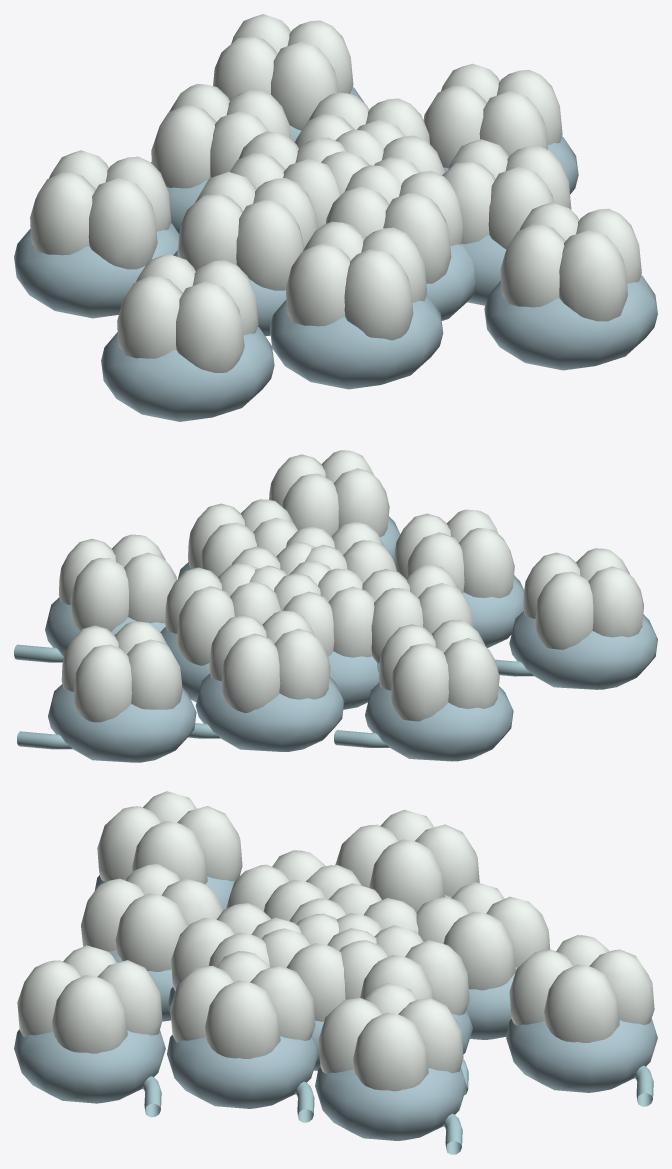
Rendered from bio_oxygen_reef_16_far.glb.
The picture shows the model from 3 angles, top to bottom: view 1: azimuth 30°, elevation 25°; view 2: azimuth 150°, elevation 25°; view 3: azimuth 270°, elevation 25°; orthographic projection. The views are drawn at different scales.
Parts seen in each view (by area): view 1: Lobed gas sac.028, Lobed gas sac.040, Lobed gas sac.036, Lobed gas sac.048, Lobed gas sac.016, Lobed gas sac.044, Lobed gas sac.032, Photosynthetic cushion.012, Photosynthetic cushion.007, Photosynthetic cushion.010, Lobed gas sac.024, Lobed gas sac.020 (+10 smaller); view 2: Lobed gas sac.048, Lobed gas sac.024, Lobed gas sac.036, Lobed gas sac.044, Lobed gas sac.032, Lobed gas sac.040, Lobed gas sac.028, Photosynthetic cushion.011, Photosynthetic cushion.012, Photosynthetic cushion.009, Lobed gas sac.012, Photosynthetic cushion.006 (+13 smaller); view 3: Lobed gas sac.040, Lobed gas sac.020, Lobed gas sac.044, Lobed gas sac.032, Lobed gas sac.048, Lobed gas sac.028, Lobed gas sac.036, Lobed gas sac.024, Photosynthetic cushion.008, Photosynthetic cushion.011, Photosynthetic cushion.010, Photosynthetic cushion.005 (+12 smaller).
Part boxes in pixels (x1=…): Lobed gas sac.028: x1=285, y1=221, x2=426, y2=340; Lobed gas sac.040: x1=500, y1=202, x2=641, y2=321; Lobed gas sac.036: x1=30, y1=150, x2=171, y2=269; Lobed gas sac.048: x1=117, y1=254, x2=258, y2=372; Lobed gas sac.016: x1=177, y1=172, x2=317, y2=290; Lobed gas sac.044: x1=213, y1=14, x2=353, y2=130; Lobed gas sac.032: x1=423, y1=63, x2=562, y2=167; Photosynthetic cushion.012: x1=101, y1=327, x2=274, y2=421; Photosynthetic cushion.007: x1=269, y1=294, x2=443, y2=389; Photosynthetic cushion.010: x1=484, y1=275, x2=657, y2=370; Lobed gas sac.024: x1=151, y1=84, x2=291, y2=188; Lobed gas sac.020: x1=442, y1=139, x2=571, y2=249; Lobed gas sac.048: x1=523, y1=548, x2=643, y2=649; Lobed gas sac.024: x1=209, y1=610, x2=330, y2=713; Lobed gas sac.036: x1=378, y1=620, x2=499, y2=721; Lobed gas sac.044: x1=61, y1=621, x2=182, y2=722; Lobed gas sac.032: x1=58, y1=534, x2=176, y2=631; Lobed gas sac.040: x1=269, y1=450, x2=389, y2=537; Lobed gas sac.028: x1=394, y1=509, x2=514, y2=598; Photosynthetic cushion.011: x1=48, y1=684, x2=196, y2=762; Photosynthetic cushion.012: x1=509, y1=611, x2=657, y2=689; Photosynthetic cushion.009: x1=365, y1=683, x2=513, y2=761; Lobed gas sac.012: x1=165, y1=563, x2=280, y2=665; Photosynthetic cushion.006: x1=195, y1=673, x2=344, y2=751; Lobed gas sac.040: x1=17, y1=945, x2=162, y2=1053; Lobed gas sac.020: x1=170, y1=951, x2=315, y2=1058; Lobed gas sac.044: x1=509, y1=935, x2=654, y2=1042; Lobed gas sac.032: x1=318, y1=983, x2=463, y2=1091; Lobed gas sac.048: x1=97, y1=791, x2=242, y2=884; Lobed gas sac.028: x1=81, y1=864, x2=222, y2=971; Lobed gas sac.036: x1=335, y1=809, x2=479, y2=912; Lobed gas sac.024: x1=416, y1=882, x2=550, y2=990; Photosynthetic cushion.008: x1=315, y1=1067, x2=466, y2=1140; Photosynthetic cushion.011: x1=506, y1=1018, x2=657, y2=1092; Photosynthetic cushion.010: x1=14, y1=1029, x2=165, y2=1103; Photosynthetic cushion.005: x1=167, y1=1035, x2=318, y2=1108.
Size of the model in its own units: 1.99 by 0.4497 by 2.03.
